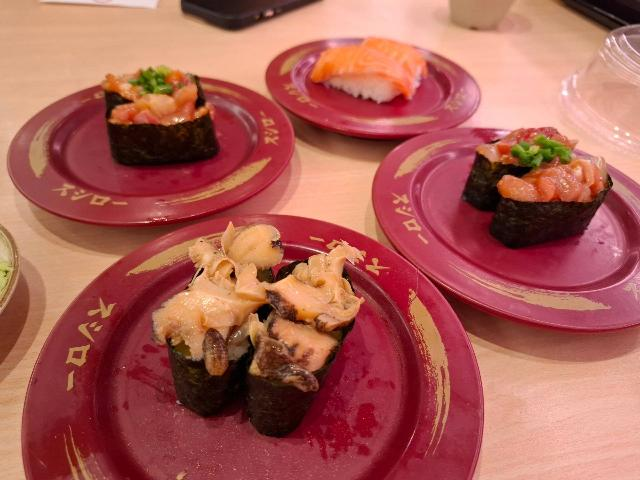janred: (56, 210, 486, 477), (371, 127, 640, 313), (24, 71, 295, 197), (216, 41, 494, 129)
